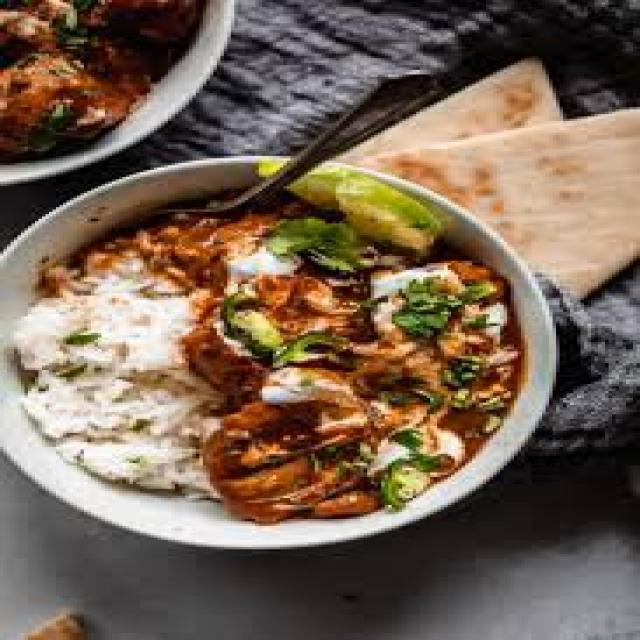Butter Chicken: (182, 216, 514, 519)
